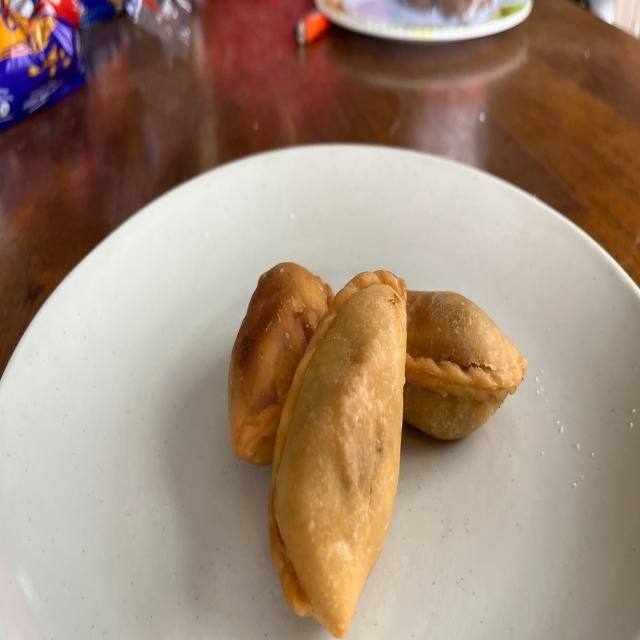karipap: (268, 269, 406, 638), (228, 262, 334, 464), (404, 291, 528, 440)
